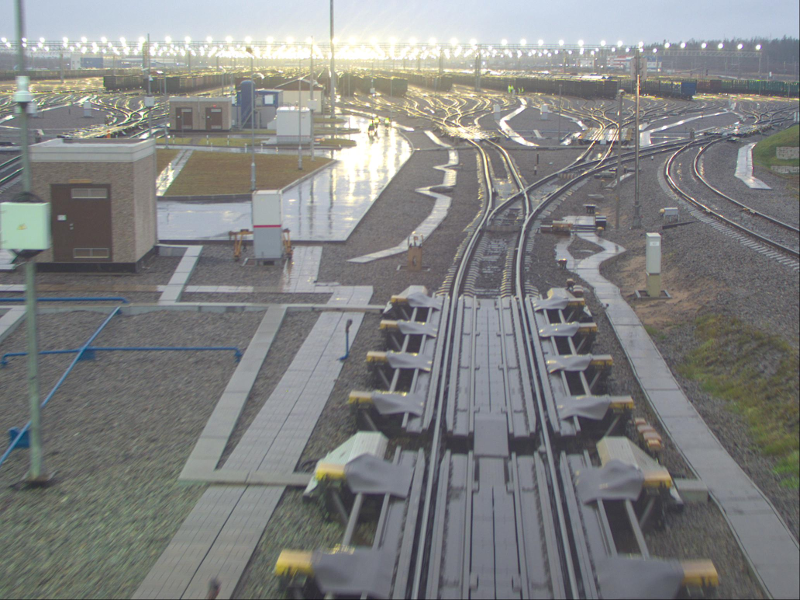left: (483, 209, 529, 229)
